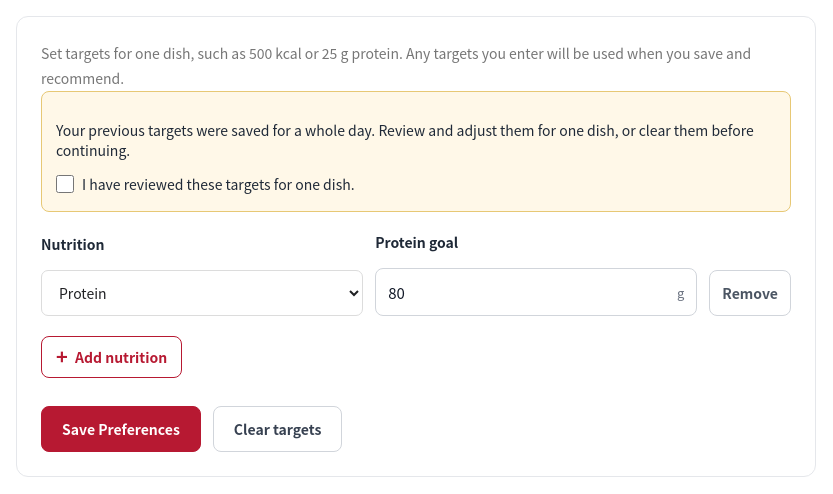
NutritionPreferences › resets goals on the Worker
Click the button with class "reset-button".
click(278, 429)  # box x1=213 y1=406 x2=342 y2=452
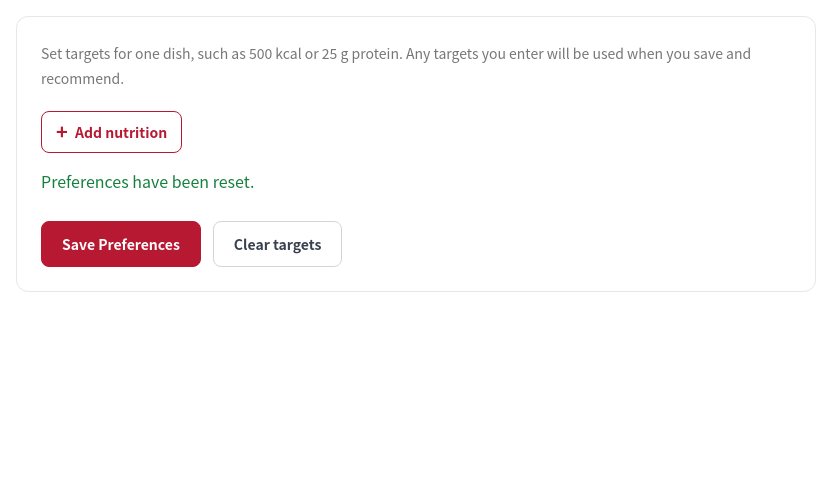
Expected: no number fields are shown
Expected: the message "Preferences have been reset." is shown, x1=41 y1=169 x2=254 y2=193
